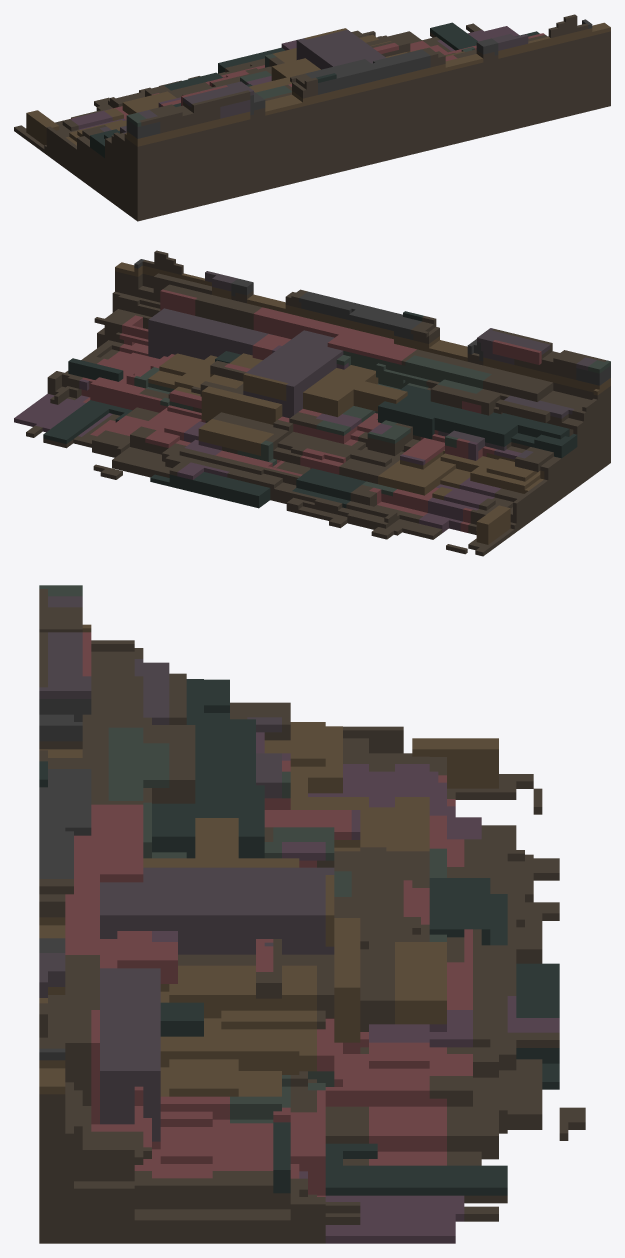
Rendered from Rubble Siding-0.obj.
3 views of the same model, one above another, from view 1: azimuth 30°, elevation 25°; view 2: azimuth 150°, elevation 25°; view 3: azimuth 270°, elevation 25° (orthographic). The views are drawn at different scales.
Parts seen in each view (by area): view 1: Rubble Siding-0; view 2: Rubble Siding-0; view 3: Rubble Siding-0.
Boxes of the visible parts, x1,y1,x2,y2 form: Rubble Siding-0: [14, 14, 610, 221]; Rubble Siding-0: [14, 250, 610, 556]; Rubble Siding-0: [39, 585, 585, 1243].
Bounding box in the file's own units: 126 × 26 × 63.
1 material, 1 textured.
